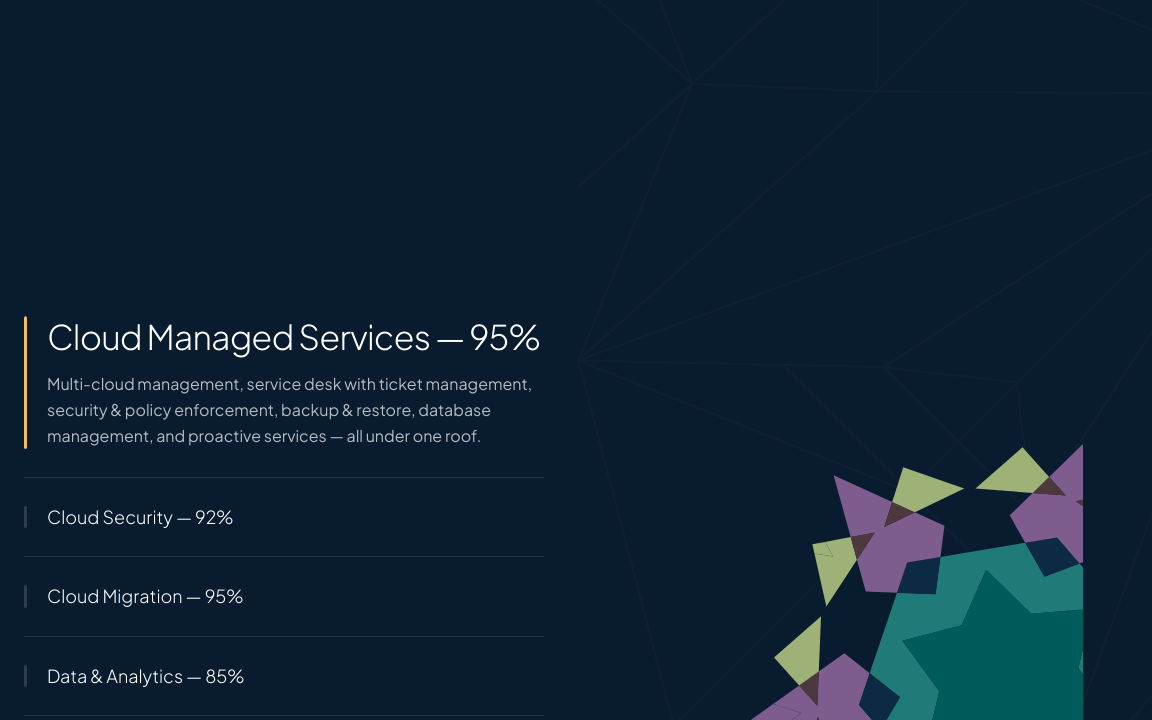
Test: WhyDifferentSection › clicking a tab switches the active feature and restarts the cycle
Click the button "Cloud Migration — 95%": (145, 596) x1=24 y1=557 x2=544 y2=636
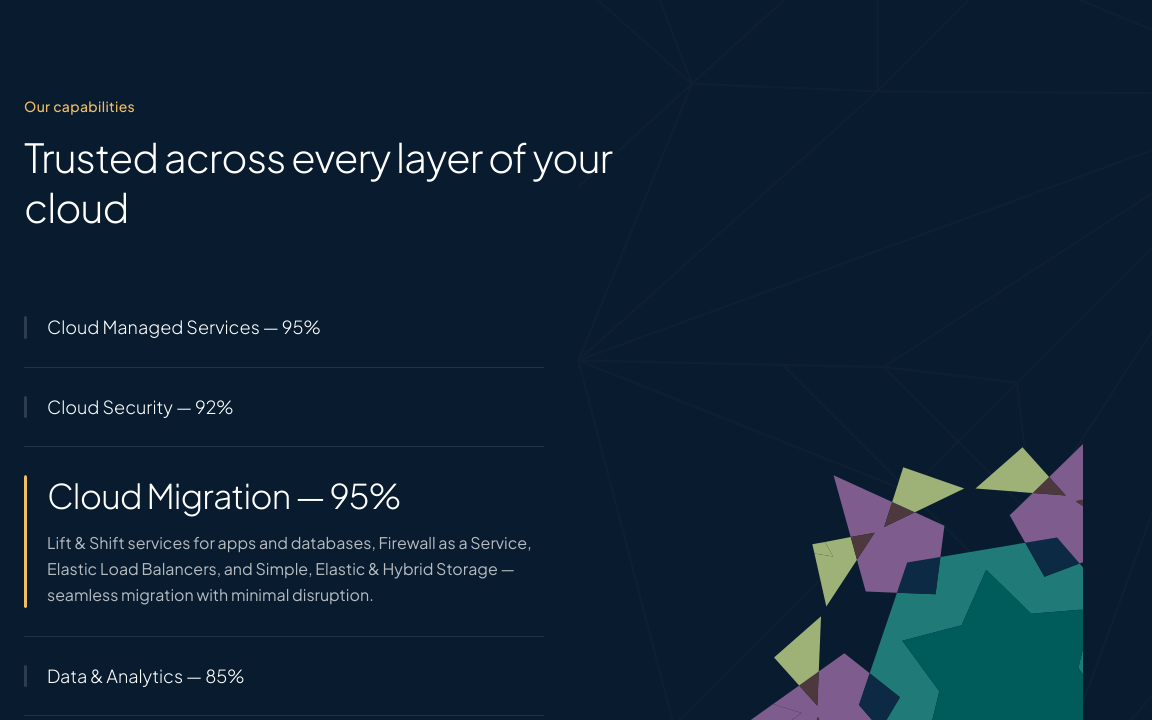
Result: the text "Lift & Shift services for apps and databases, Firewall as a Service, Elastic Load Balancers, and Simple, Elastic & Hybri" is shown at x1=47 y1=532 x2=532 y2=604
